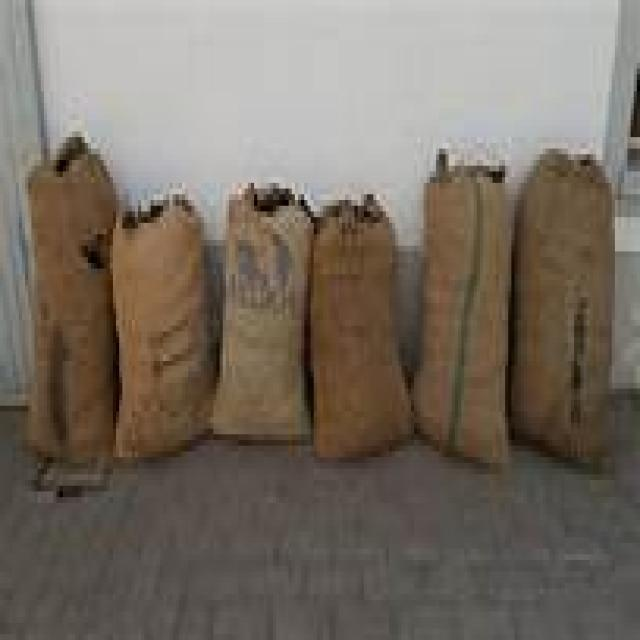gunny_bag: (502, 156, 619, 473), (19, 130, 122, 467), (411, 162, 521, 470), (304, 192, 419, 460), (206, 181, 317, 444), (106, 200, 214, 463)
